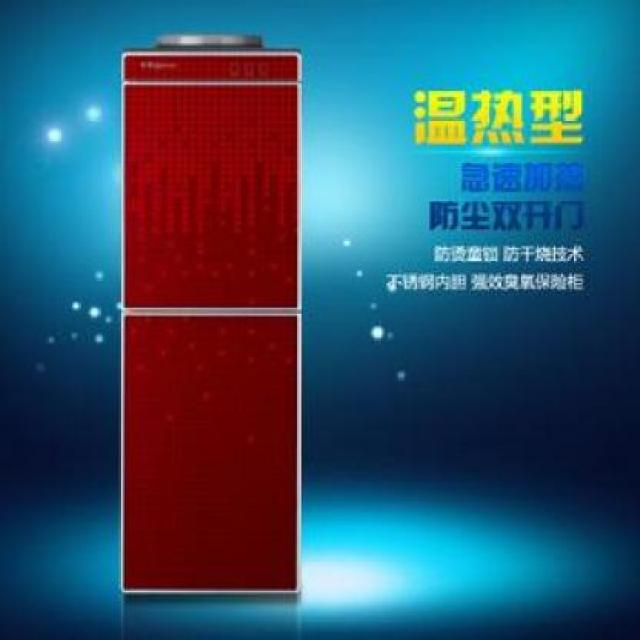cooler: (118, 31, 306, 607)
